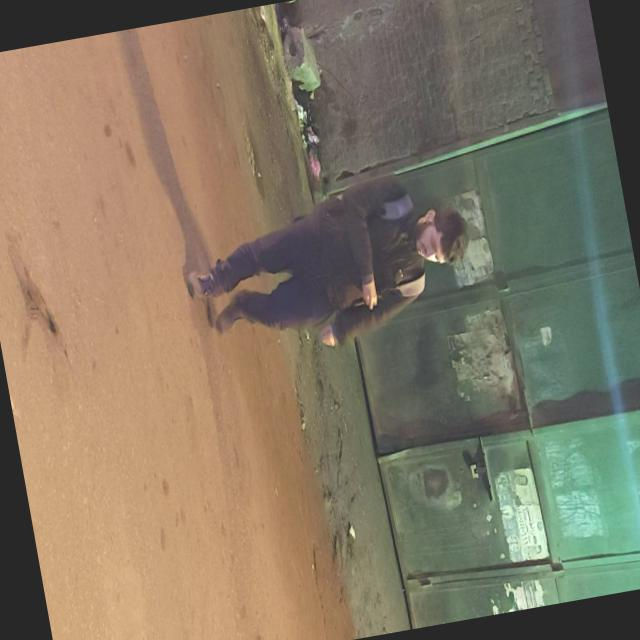long weapon: (348, 241, 418, 320)
